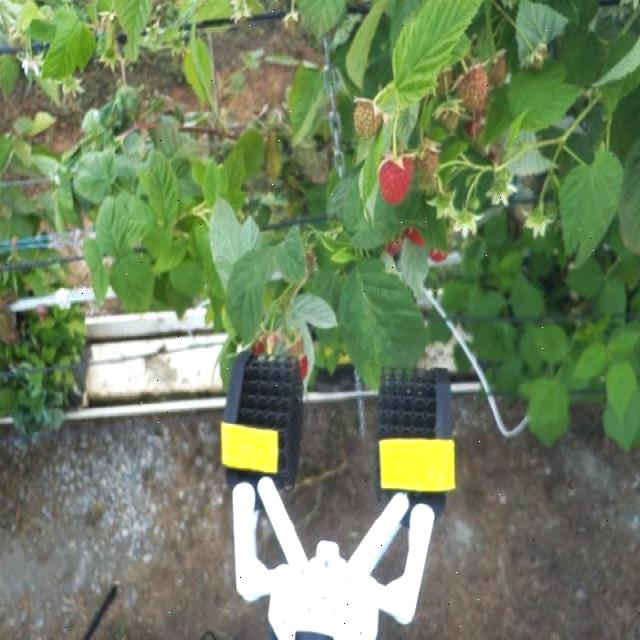Riped berries: (375, 150, 414, 207)
